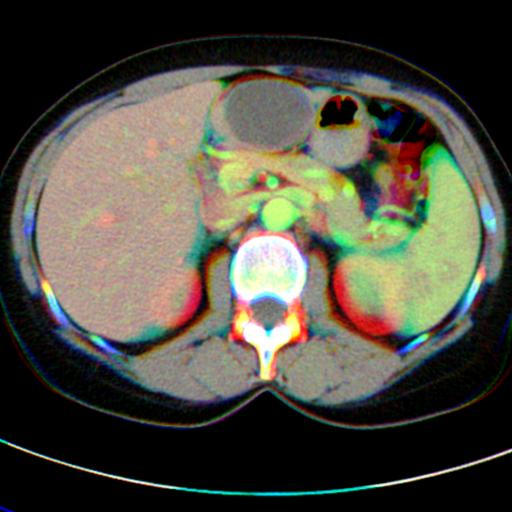Cyst: (223, 79, 313, 149)
